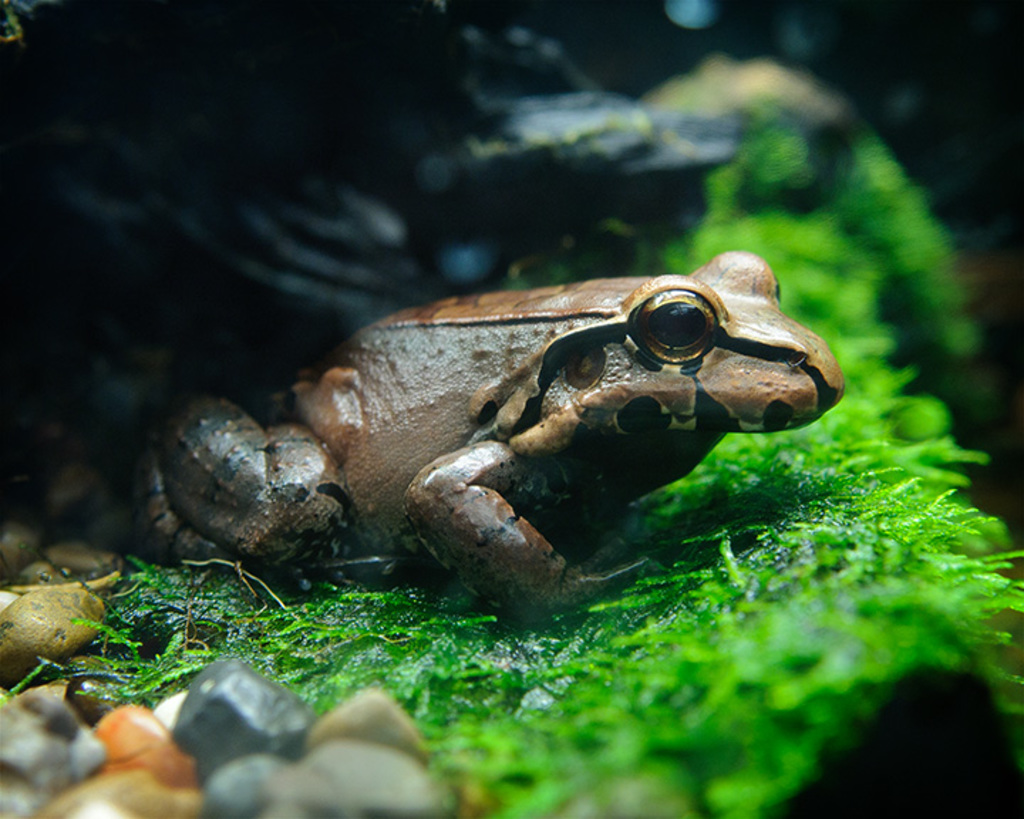Frog: (119, 248, 845, 630)
